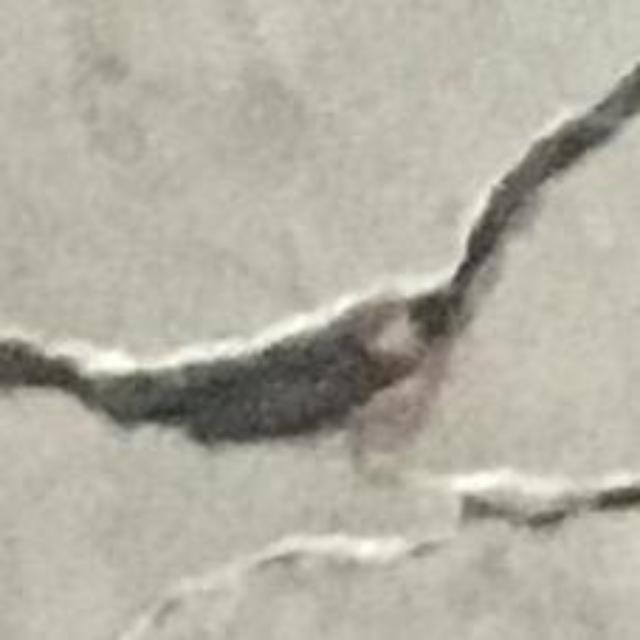crack: (0, 65, 639, 530)
